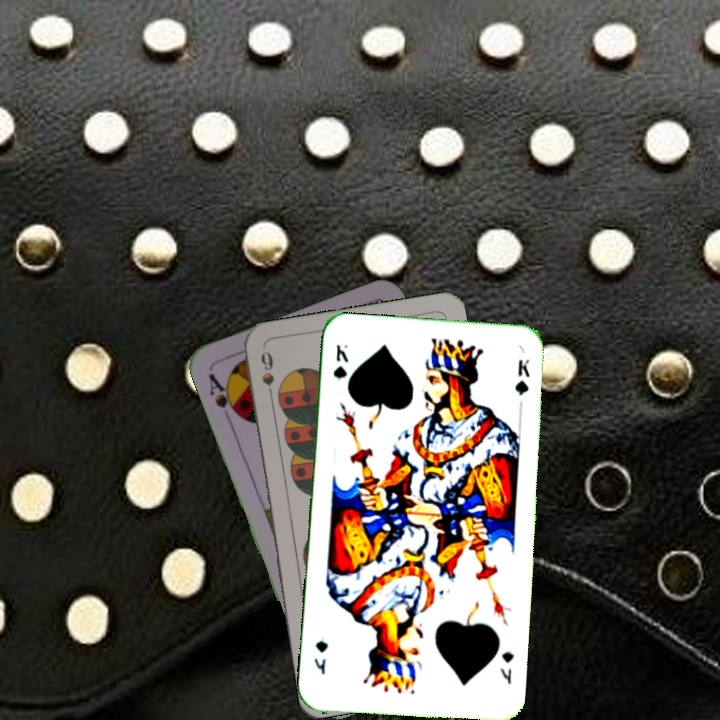GK: (329, 340, 351, 382), (495, 647, 517, 687)
S9: (256, 347, 277, 406)
SA: (204, 369, 243, 424)
